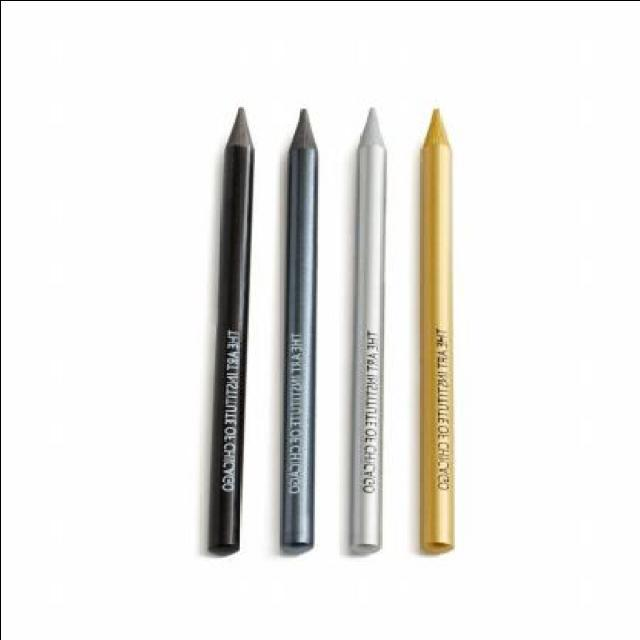pencil: (207, 94, 266, 174), (268, 99, 330, 170), (341, 96, 396, 166), (410, 100, 462, 168)
